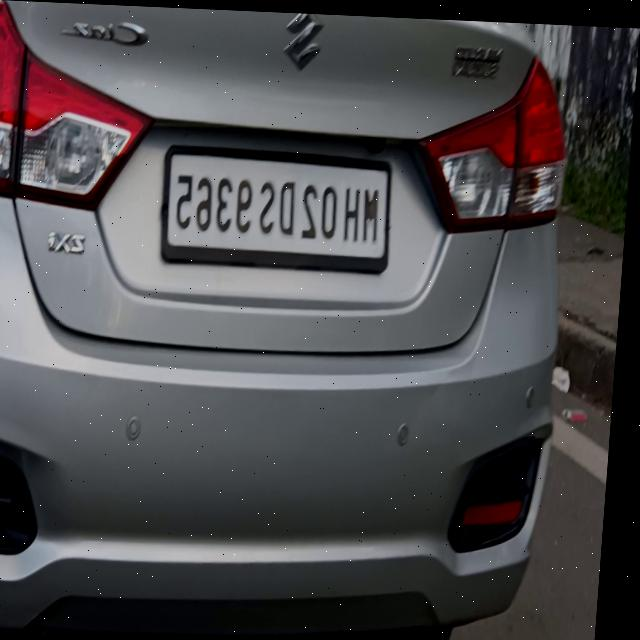plate: (149, 141, 401, 278)
